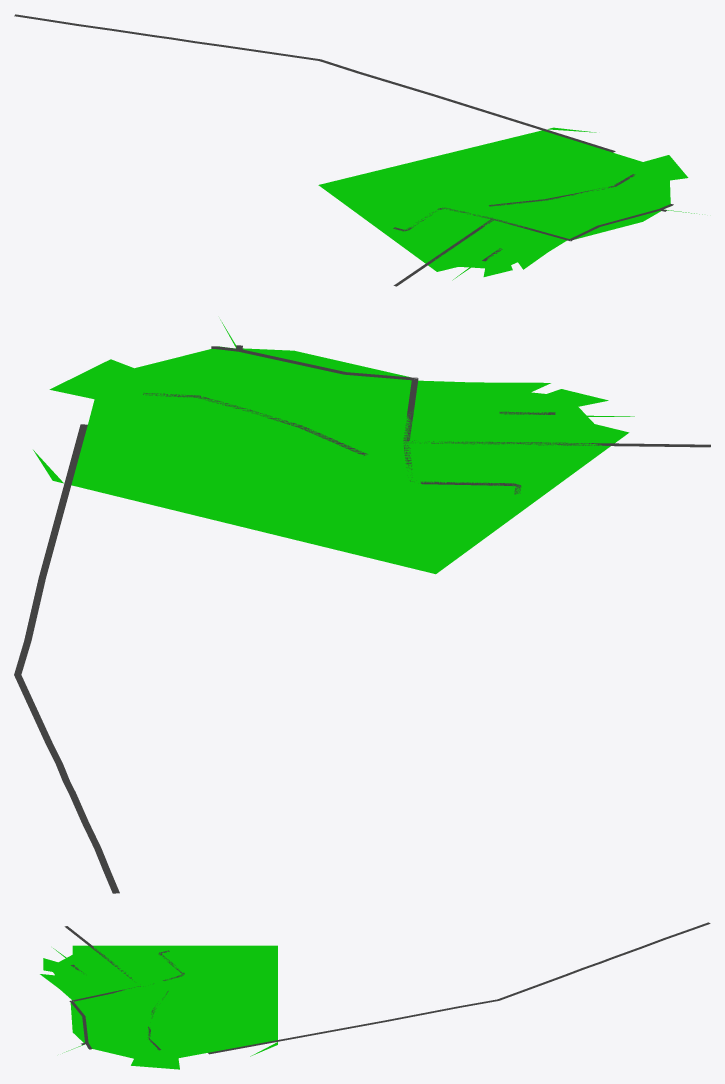
3 views of the same model, one above another, from view 1: azimuth 30°, elevation 25°; view 2: azimuth 150°, elevation 25°; view 3: azimuth 270°, elevation 25° (orthographic). The views are drawn at different scales.
Size of the model in its own units: 356 by 0 by 713.
